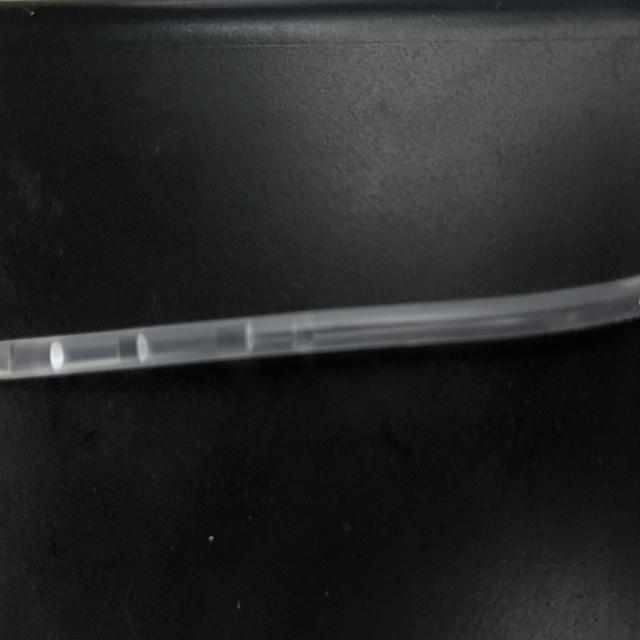bubble: (133, 312, 228, 374), (6, 324, 62, 388), (244, 310, 302, 362)
